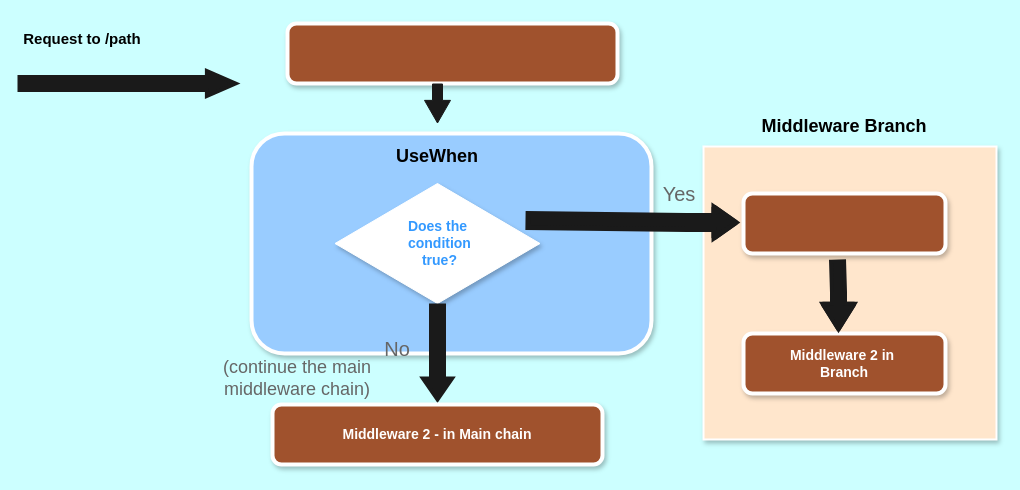
Image size: 1020x490. Some labels were removed from this diagram. The shapes that lost their labels are listed below. From the top down, each one's centre as x and y in pixels, then its label:
point (453, 54): Middleware 1 - in Main chain
point (845, 224): Middleware 1 in Branch
